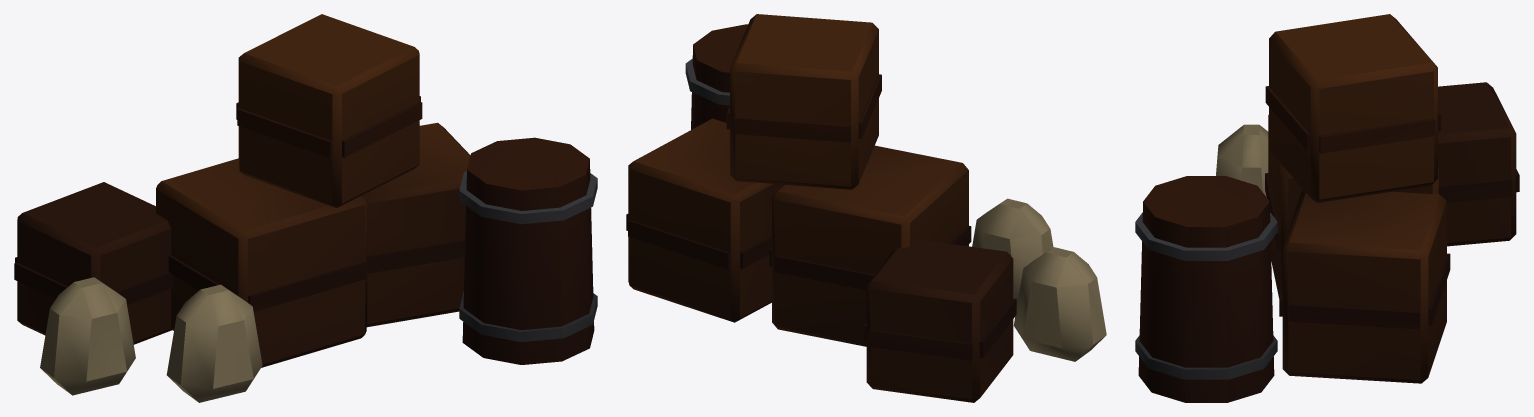
Rendered from Caixotes4.fbx.
The picture shows the model from 3 angles, left to right: view 1: azimuth 30°, elevation 25°; view 2: azimuth 150°, elevation 25°; view 3: azimuth 270°, elevation 25°; orthographic projection. The views are drawn at different scales.
Parts seen in each view (by area): view 1: Caixotes4; view 2: Caixotes4; view 3: Caixotes4.
Part boxes in pixels (x1,y1,x2,y2): Caixotes4: (14,14,597,402); Caixotes4: (626,14,1106,402); Caixotes4: (1135,14,1519,402).
Size of the model in its own units: 2.46 by 1.3 by 1.7.
